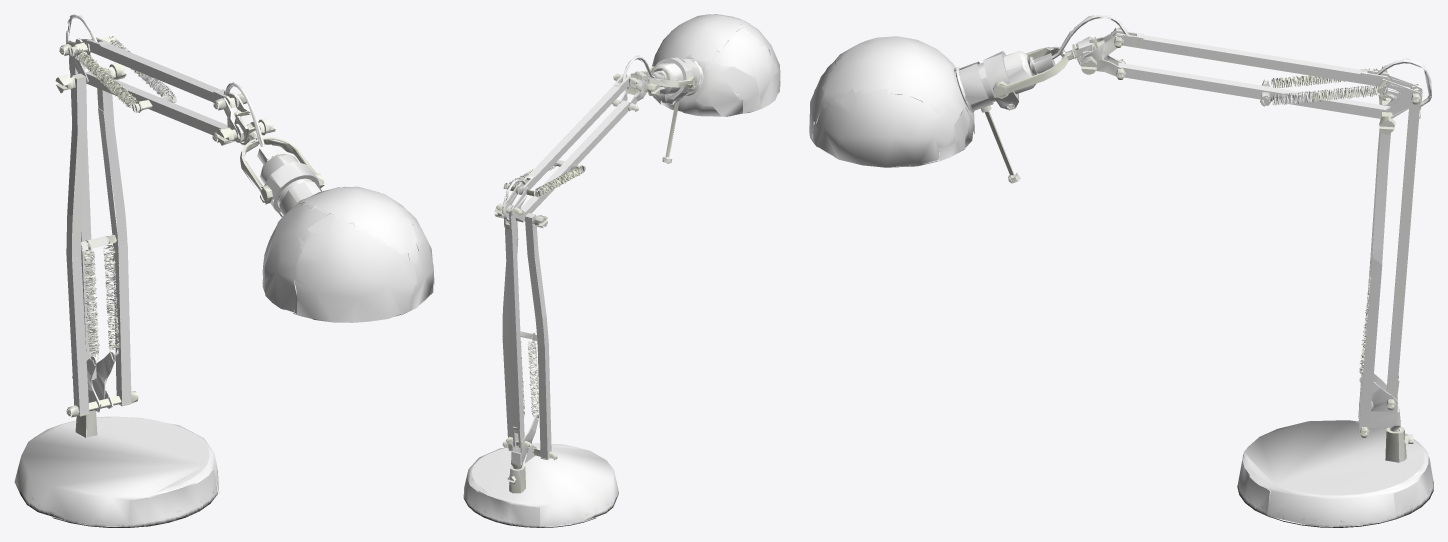
The picture shows the model from 3 angles, left to right: view 1: azimuth 30°, elevation 25°; view 2: azimuth 150°, elevation 25°; view 3: azimuth 270°, elevation 25°; orthographic projection. The views are drawn at different scales.
Parts seen in each view (by area): view 1: Mesh_0; view 2: Mesh_0; view 3: Mesh_0.
Boxes of the visible parts, left/top/right/bottom form: Mesh_0: left=14, top=14, right=434, bottom=527; Mesh_0: left=463, top=14, right=780, bottom=527; Mesh_0: left=809, top=14, right=1433, bottom=527.
Size of the model in its own units: 0.1511 by 0.3986 by 0.4777.
1 material, 1 textured.
